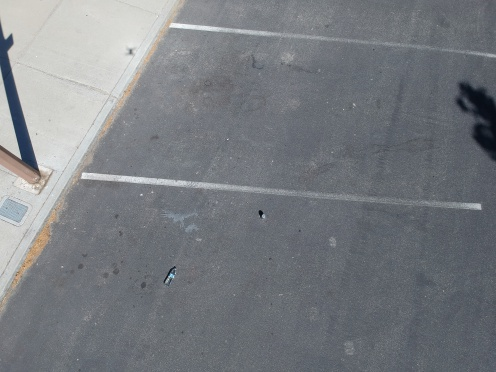bottle: (162, 264, 179, 288)
can: (257, 211, 268, 220)
